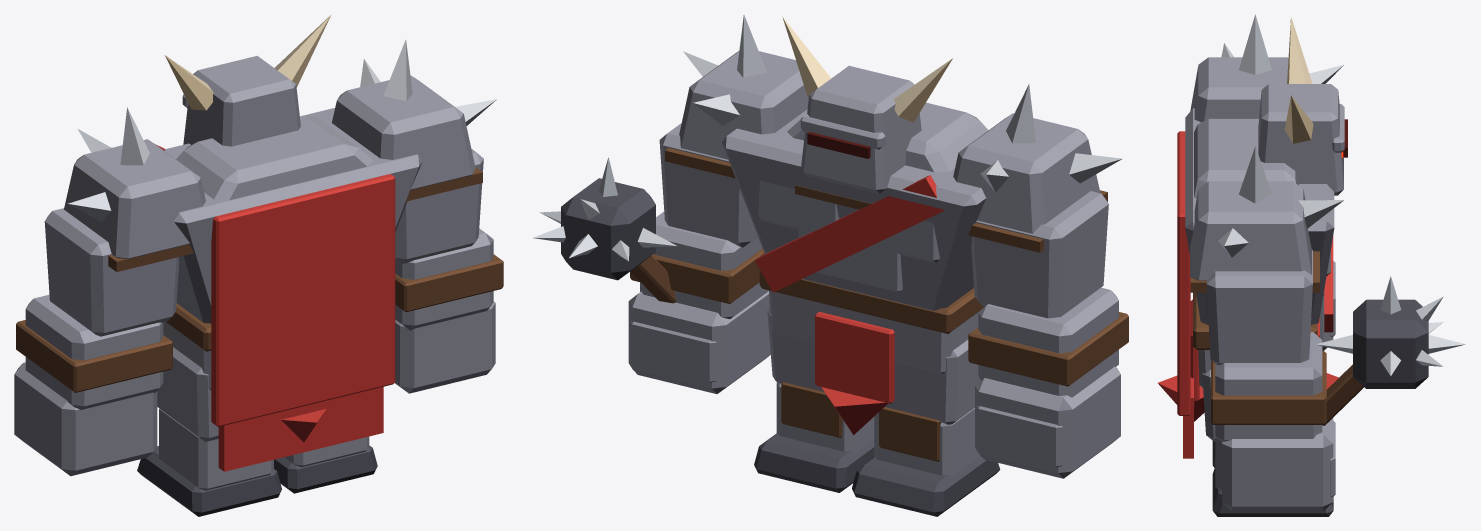
The model's file is warlord.glb.
The picture shows the model from 3 angles, left to right: view 1: azimuth 30°, elevation 25°; view 2: azimuth 150°, elevation 25°; view 3: azimuth 270°, elevation 25°; orthographic projection. The views are drawn at different scales.
Parts seen in each view (by area): view 1: Torso, ArmL, ArmR, LegL, LegR, Hips; view 2: Torso, ArmL, ArmR, Hips, LegL, LegR; view 3: Torso, ArmR, Hips, LegR, ArmL.
Part boxes in pixels (x1,y1,x2,y2): Torso: (64,14,496,471); ArmL: (14,208,179,476); ArmR: (395,149,503,393); LegL: (137,347,281,516); LegR: (274,436,377,493); Hips: (163,303,326,442); Torso: (665,15,1122,310); ArmL: (968,191,1128,478); ArmR: (532,123,770,393); Hips: (759,269,984,435); LegL: (852,340,1000,516); LegR: (754,309,874,492); Torso: (1177,14,1347,458); ArmR: (1206,250,1465,511); Hips: (1158,292,1338,421); LegR: (1202,370,1333,516); ArmL: (1320,261,1335,351).
Bounding box in the file's own units: 2.44 × 2.08 × 1.39.
